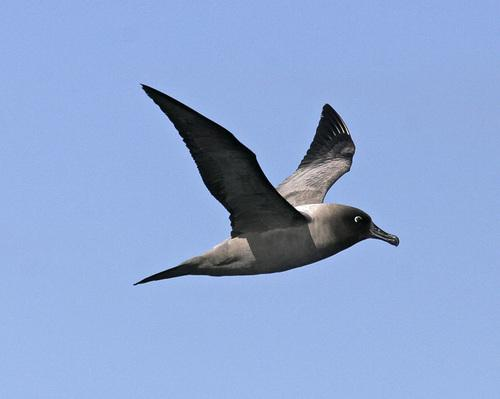003.Sooty_Albatross: (133, 80, 400, 291)
